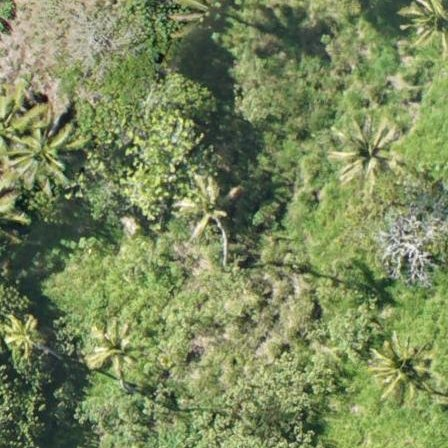palm_tree: (7, 112, 82, 195), (328, 109, 403, 190), (371, 333, 433, 400), (175, 179, 234, 233), (82, 323, 138, 377), (403, 1, 448, 48), (1, 315, 44, 357)
